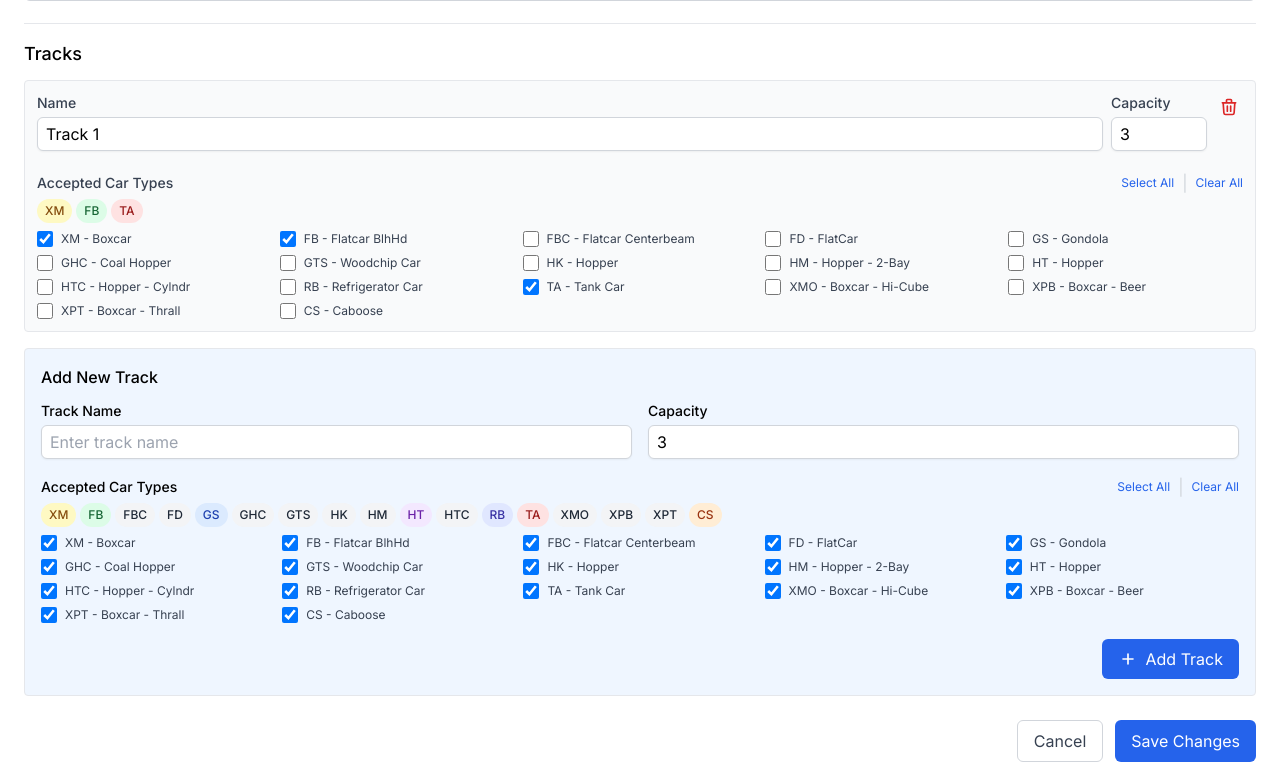
EditIndustryForm › validates new track fields
(page scrolled)
Try to add track without a name
Click the button with test id "add-track-button".
click(1170, 659)  # box top-left (1102, 639), bottom-right (1239, 679)
(page scrolled)
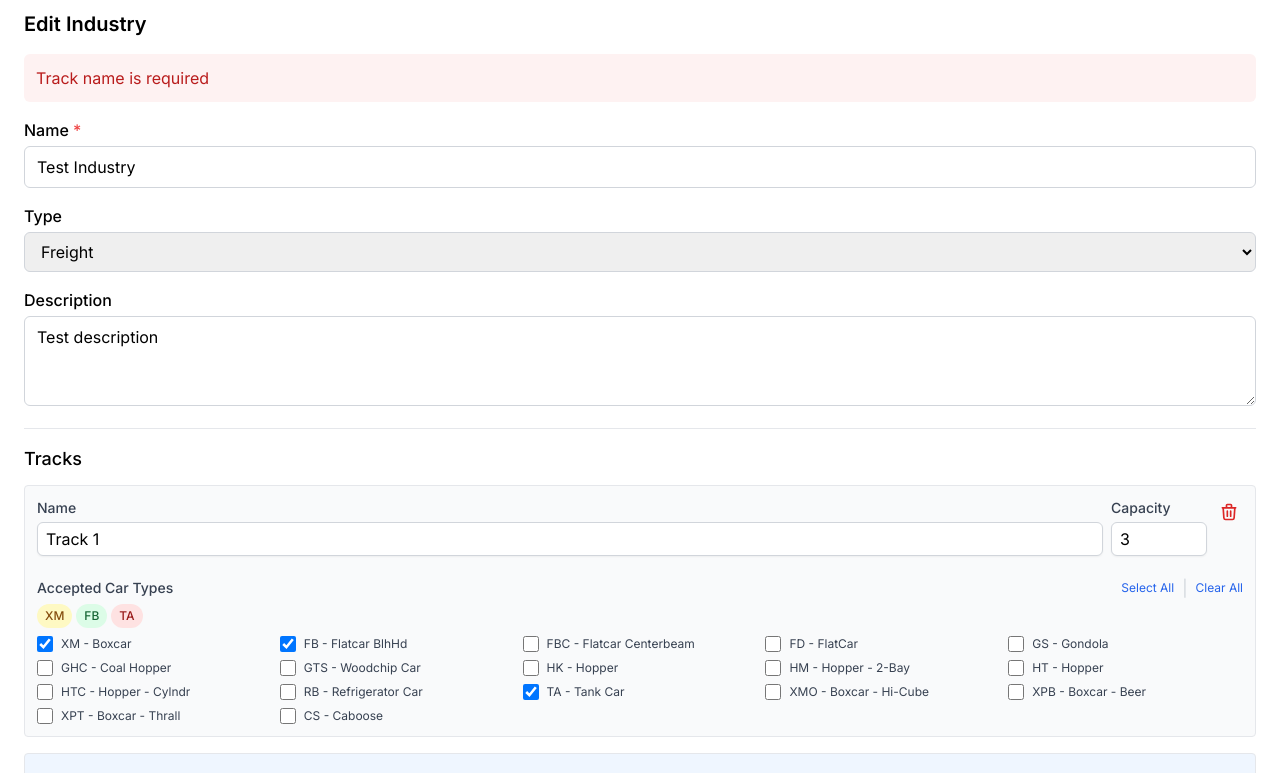
Expected: the text "Track name is required" is shown, top-left (24, 54), bottom-right (1256, 102)
